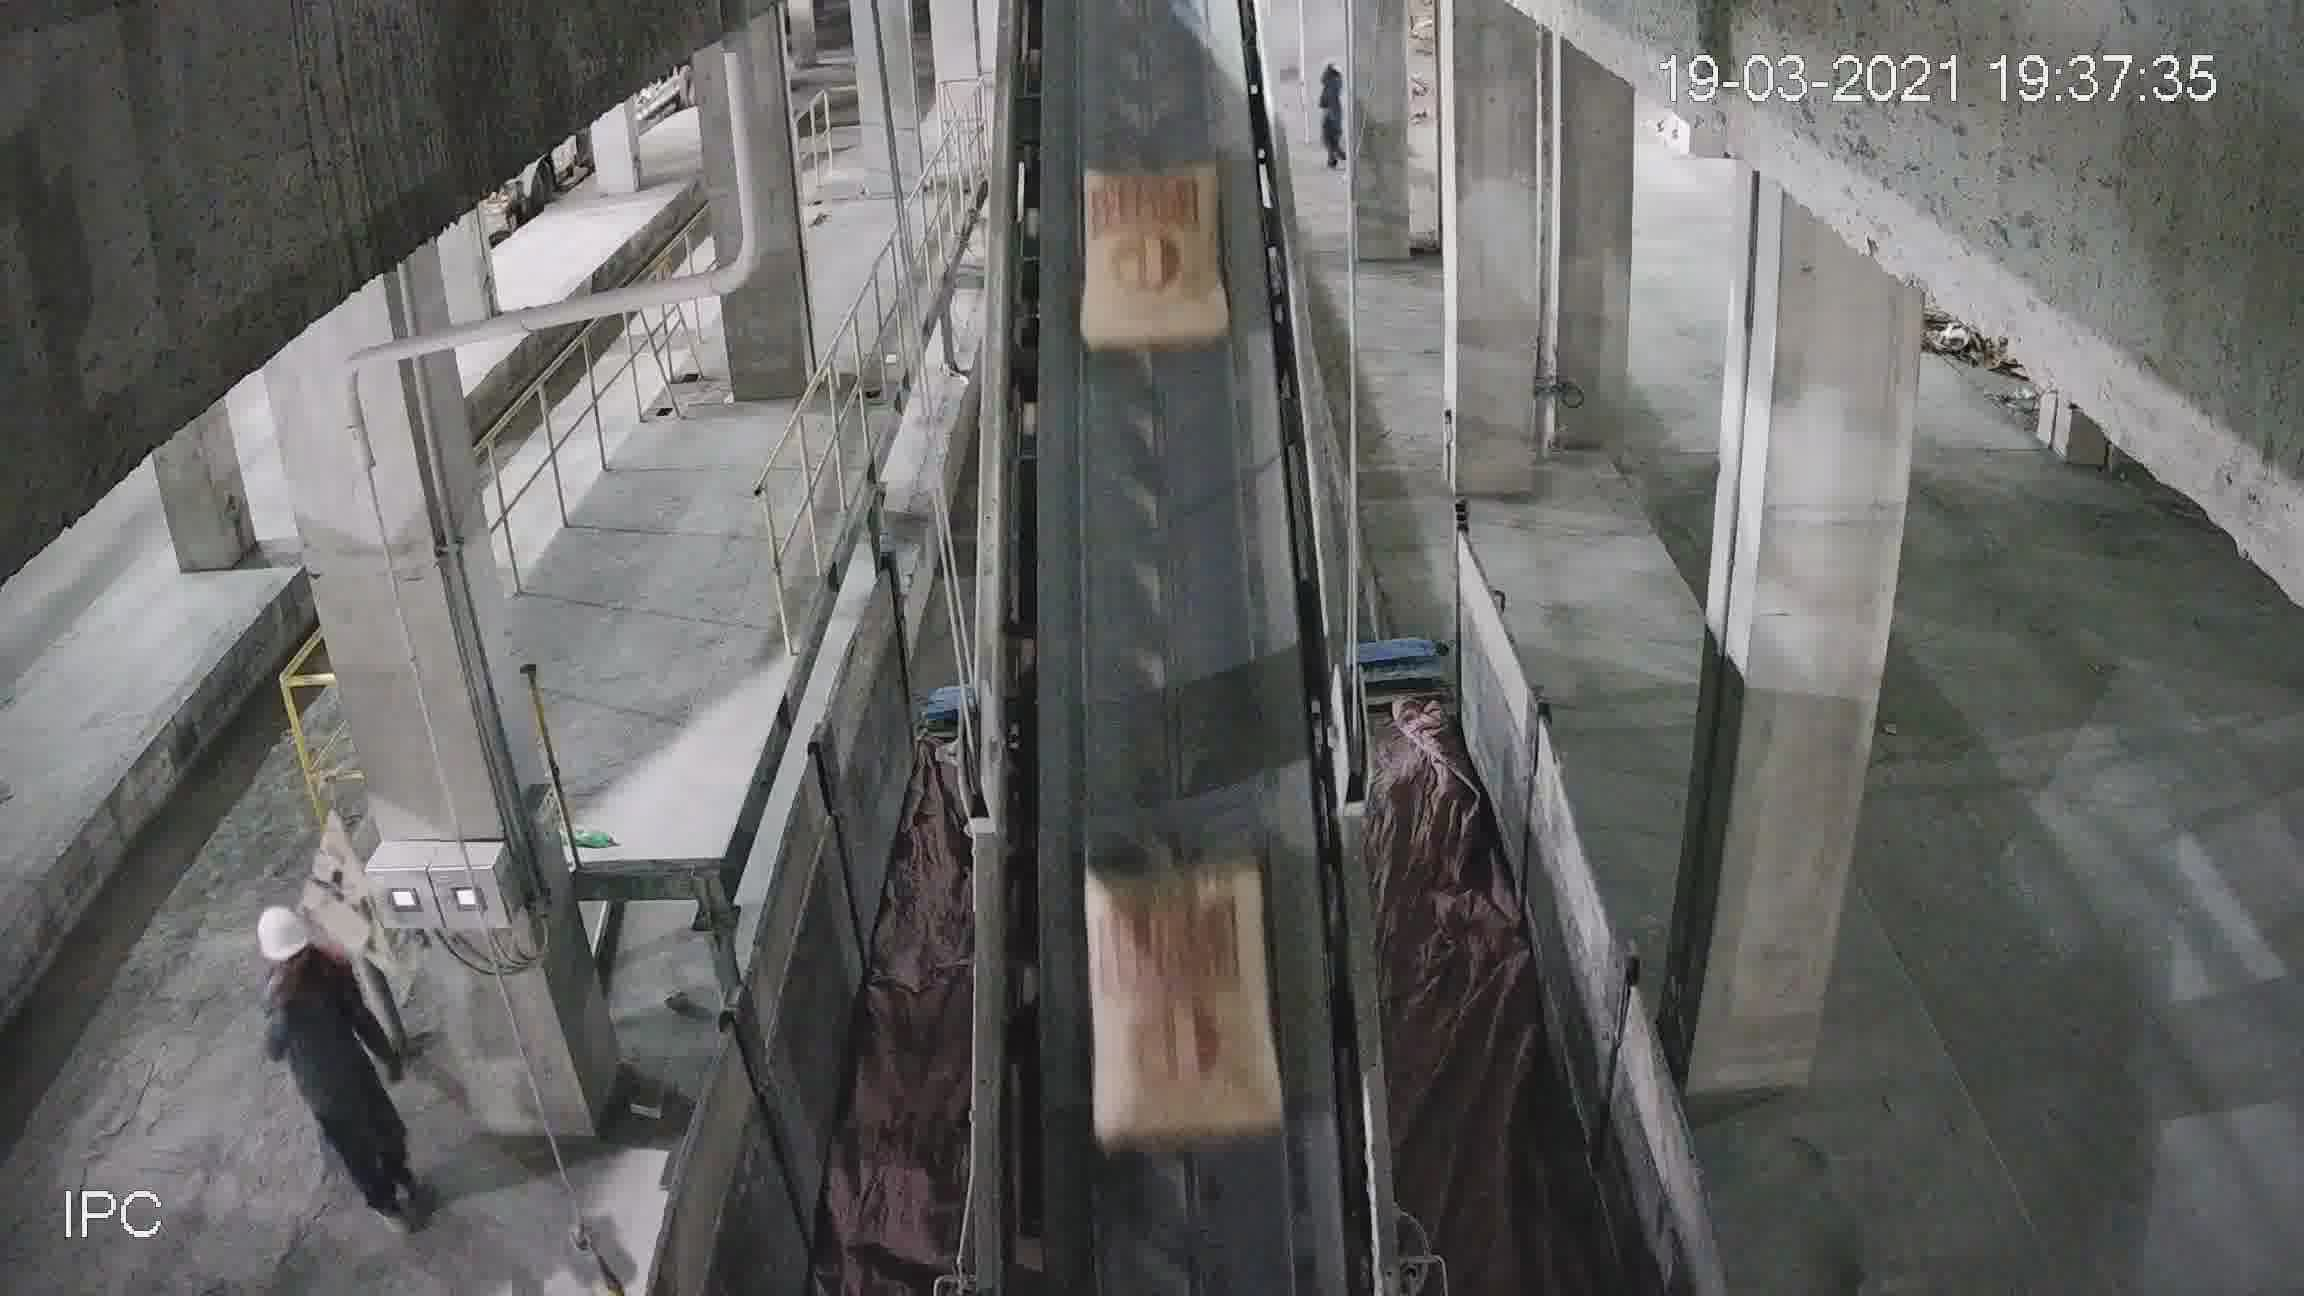bag: (1086, 867, 1272, 1146), (1078, 174, 1225, 343)
belt: (984, 123, 1358, 1204)
